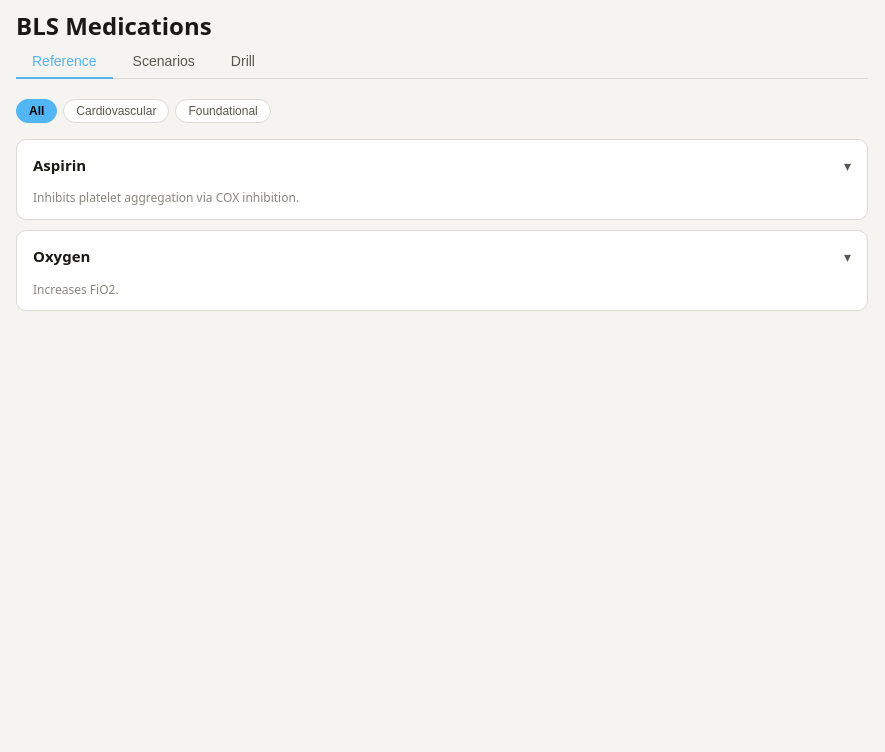
Test case: BlsMedsView — Reference tab › clicking a medication card expands it to show clinical details
What coordinates should you click on to do the following:
click the text "Aspirin"
I would click on:
 (442, 179)
Its box is [16, 139, 868, 220].
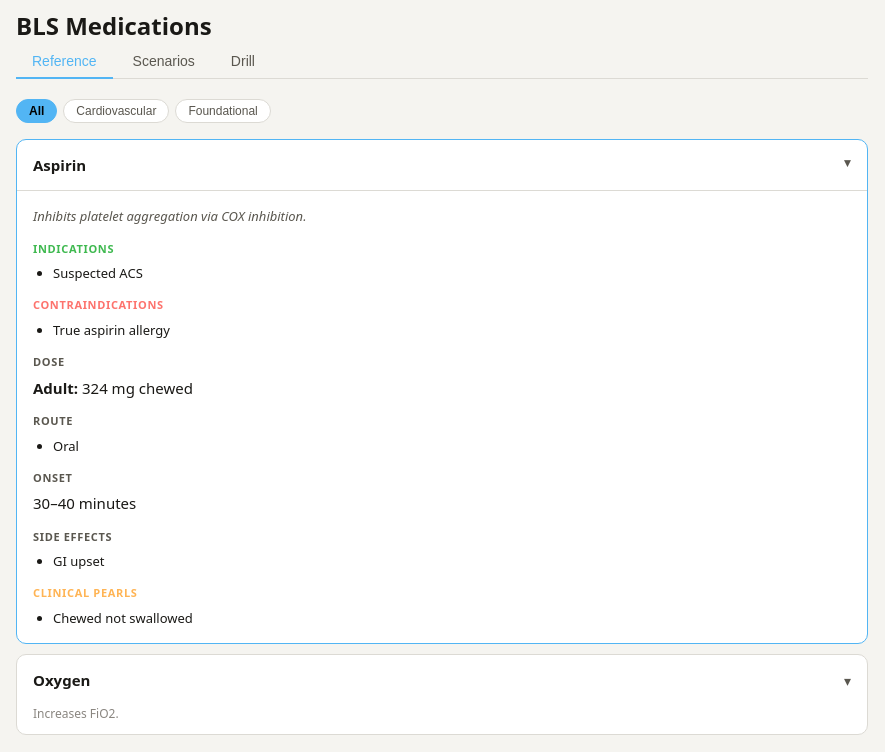
Expected: the list item "Suspected ACS" is shown, [53, 264, 143, 282]
Expected: the list item "True aspirin allergy" is shown, [53, 321, 170, 339]
Expected: the text "324 mg chewed" is shown, [82, 378, 193, 398]
